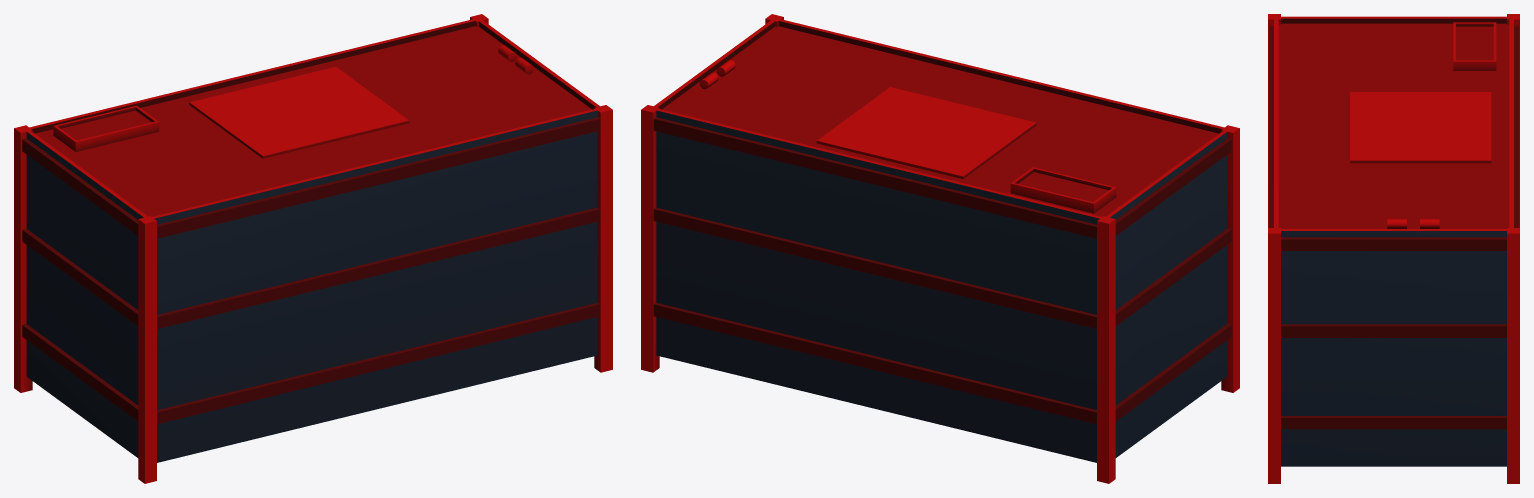
Rendered from buildings-industrial-wideofficebuilding_v4.fbx.
The picture shows the model from 3 angles, left to right: view 1: azimuth 30°, elevation 25°; view 2: azimuth 150°, elevation 25°; view 3: azimuth 270°, elevation 25°; orthographic projection. The views are drawn at different scales.
Parts seen in each view (by area): view 1: WideOfficeBuilding_v4_windowRefl, WideOfficeBuilding_v4_base; view 2: WideOfficeBuilding_v4_windowRefl, WideOfficeBuilding_v4_base; view 3: WideOfficeBuilding_v4_base, WideOfficeBuilding_v4_windowRefl.
Boxes of the visible parts, x1=… form: WideOfficeBuilding_v4_windowRefl: x1=26, y1=110, x2=597, y2=462; WideOfficeBuilding_v4_base: x1=14, y1=14, x2=612, y2=483; WideOfficeBuilding_v4_windowRefl: x1=656, y1=110, x2=1227, y2=462; WideOfficeBuilding_v4_base: x1=641, y1=14, x2=1239, y2=483; WideOfficeBuilding_v4_base: x1=1268, y1=14, x2=1519, y2=483; WideOfficeBuilding_v4_windowRefl: x1=1281, y1=231, x2=1506, y2=466.
Size of the model in its own units: 48.31 by 26.1 by 23.38.
